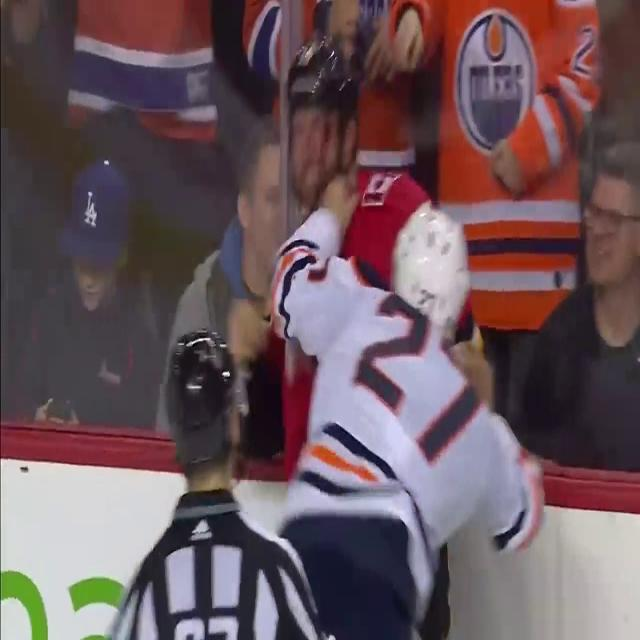Violence: (275, 35, 545, 591)
